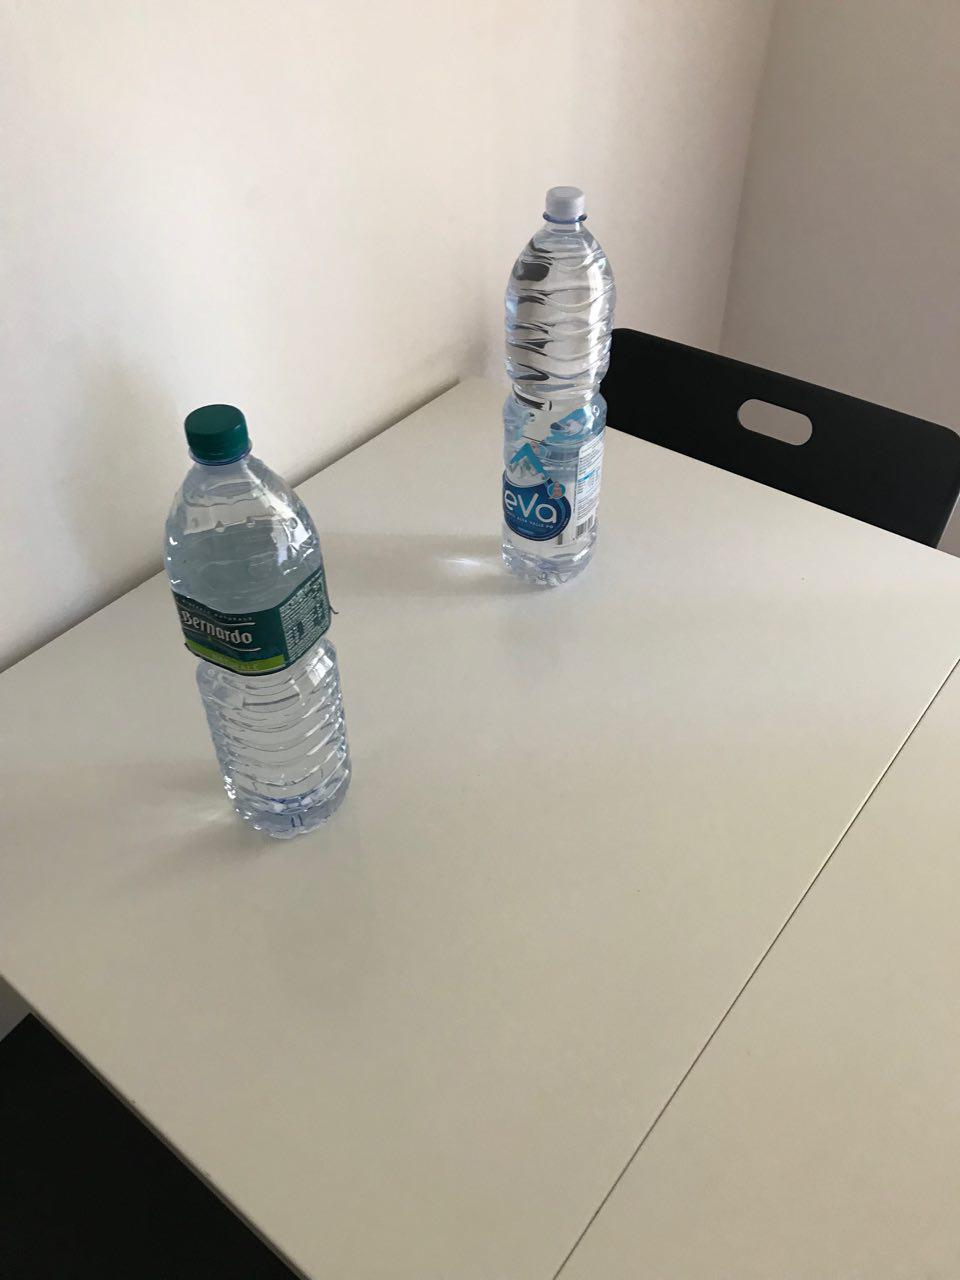san_bernardo: (162, 402, 354, 840)
